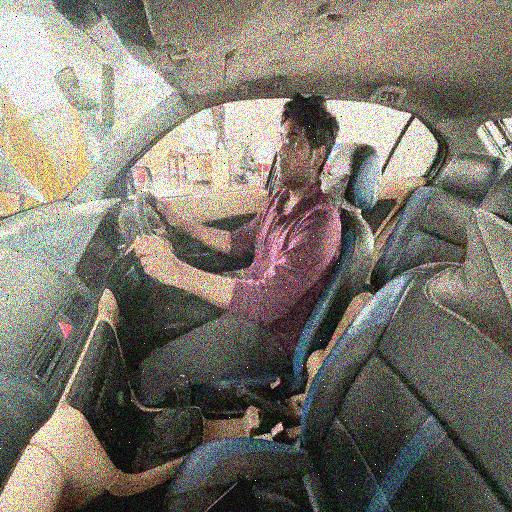Reaching_behind: (129, 91, 340, 358)
